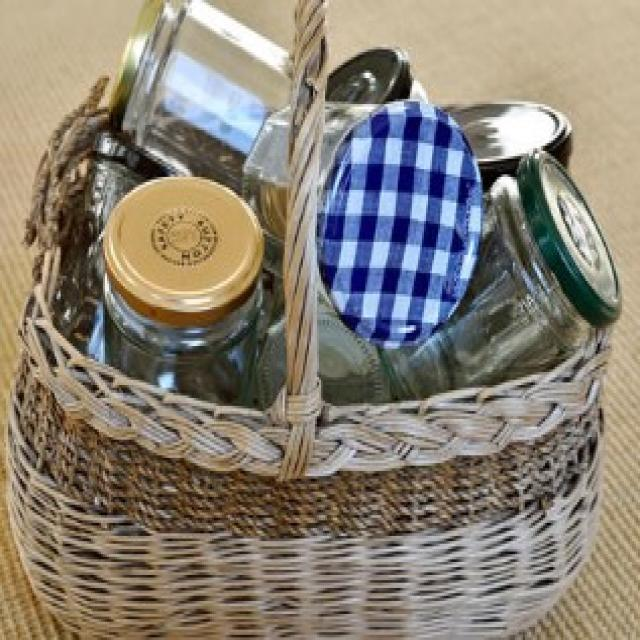electronic: (77, 2, 627, 400)
